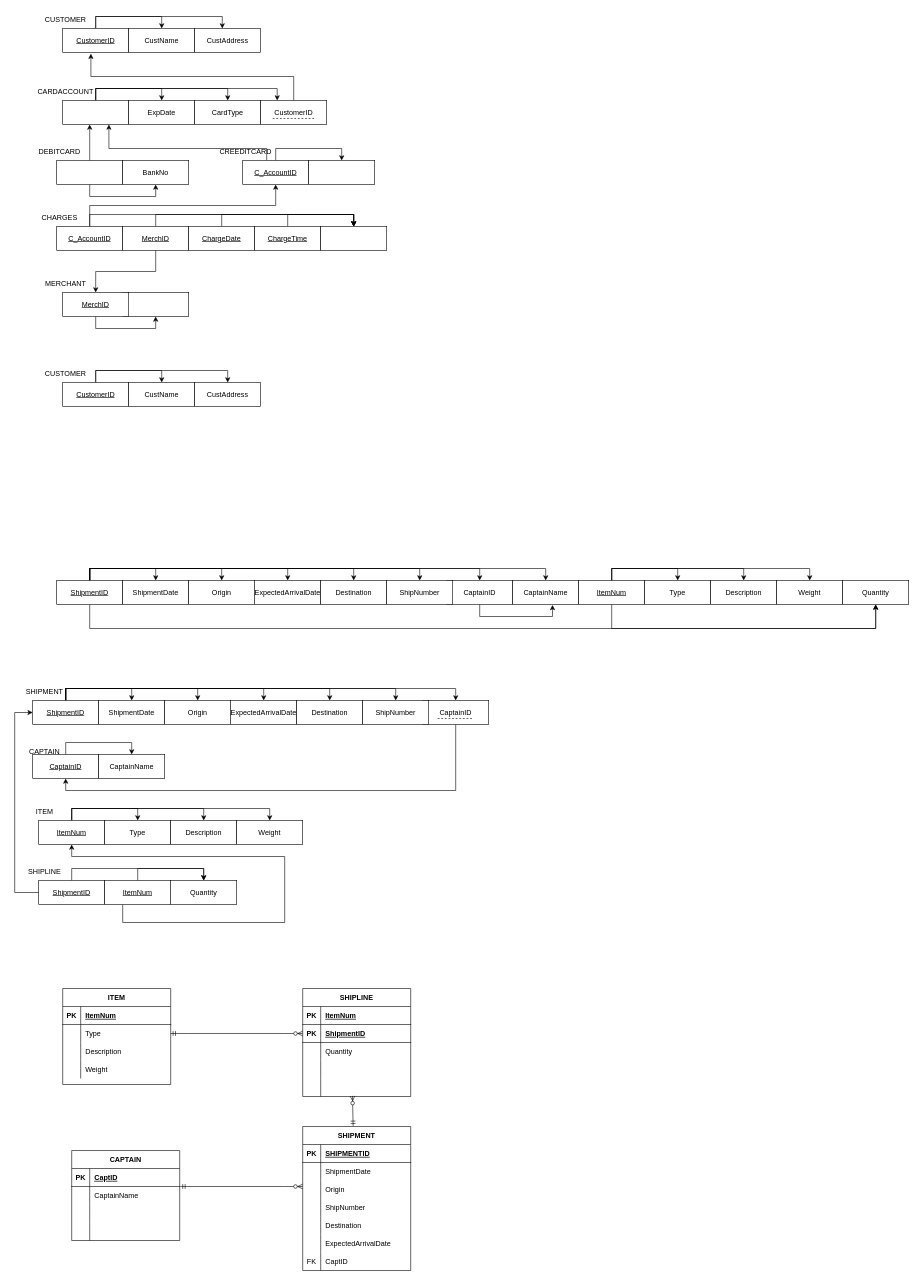
The diagram is 919 pixels wide and 1281 high, and some of its shapes have lost their labels. Each missing label, with the centre of its shape:
"AccountID" belongs at pixel 95 112.
"Amount" belongs at pixel 353 238.
"Cur_Bal" belongs at pixel 341 172.
"D_AccountID" belongs at pixel 89 172.
"MerchAddr" belongs at pixel 155 304.
